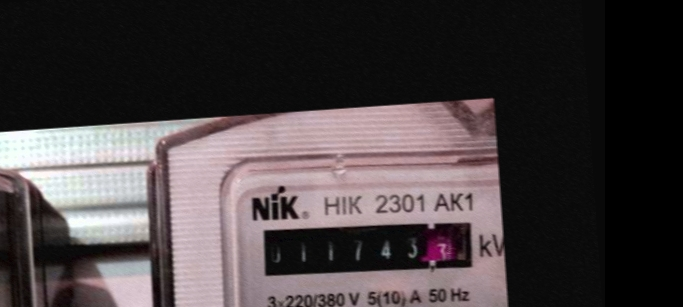0: (265, 237, 281, 265)
1: (292, 235, 308, 264), (320, 234, 335, 263)
3: (401, 232, 417, 260), (431, 240, 447, 262)
4: (375, 235, 391, 261)
7: (347, 235, 363, 261)
screen: (251, 209, 481, 289)
